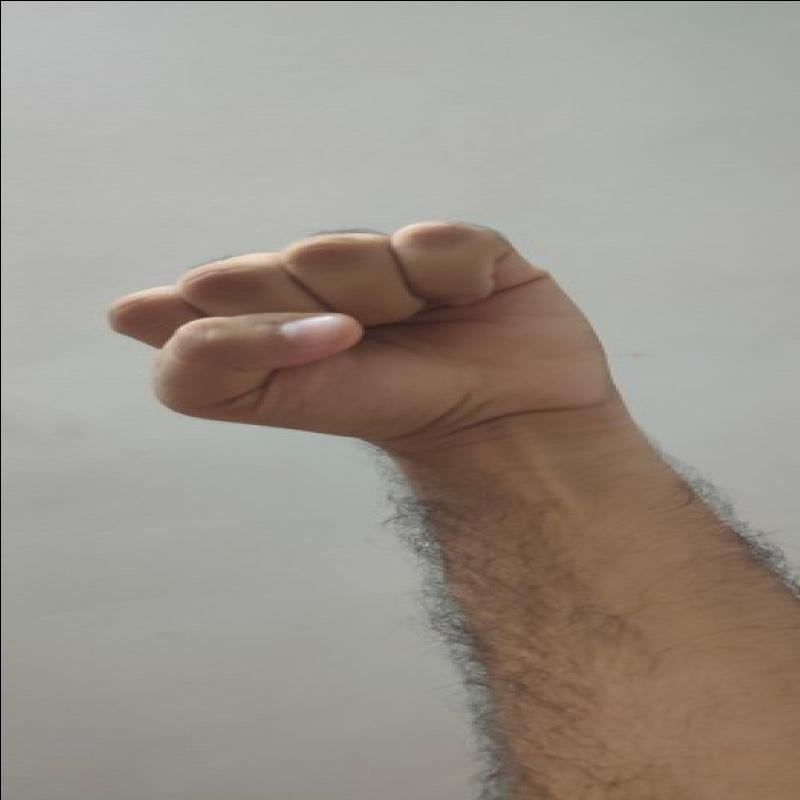Mushti: (90, 209, 620, 451)
